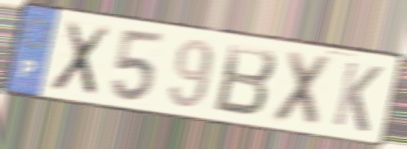5: (109, 28, 168, 105)
9: (166, 37, 215, 112)
B: (211, 41, 280, 119)
K: (329, 58, 385, 135)
X: (268, 47, 337, 131), (46, 18, 114, 99)
